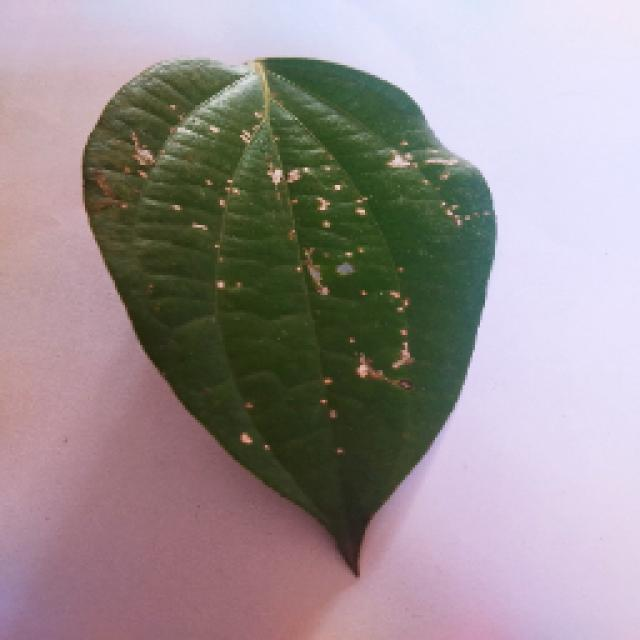pollu-disease: (80, 53, 495, 575)
